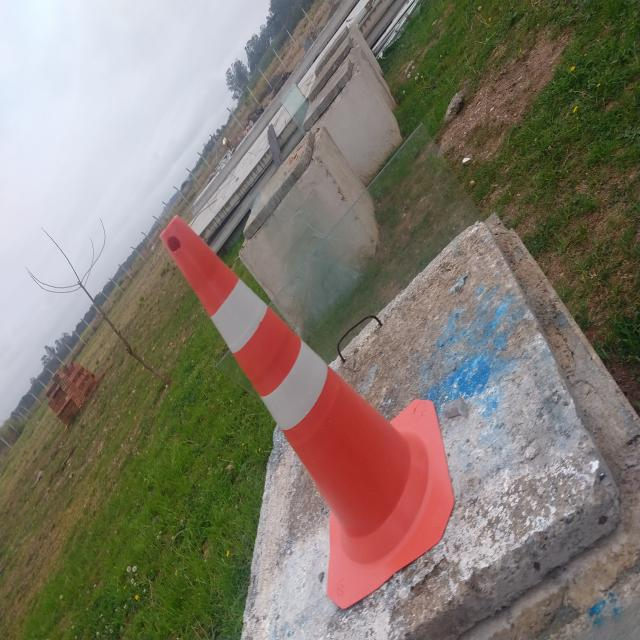cone: (149, 208, 462, 614)
